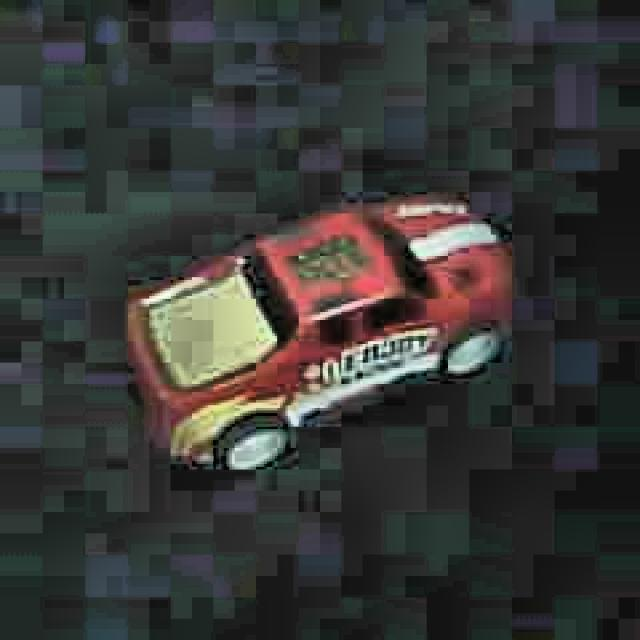car: (120, 190, 521, 485)
